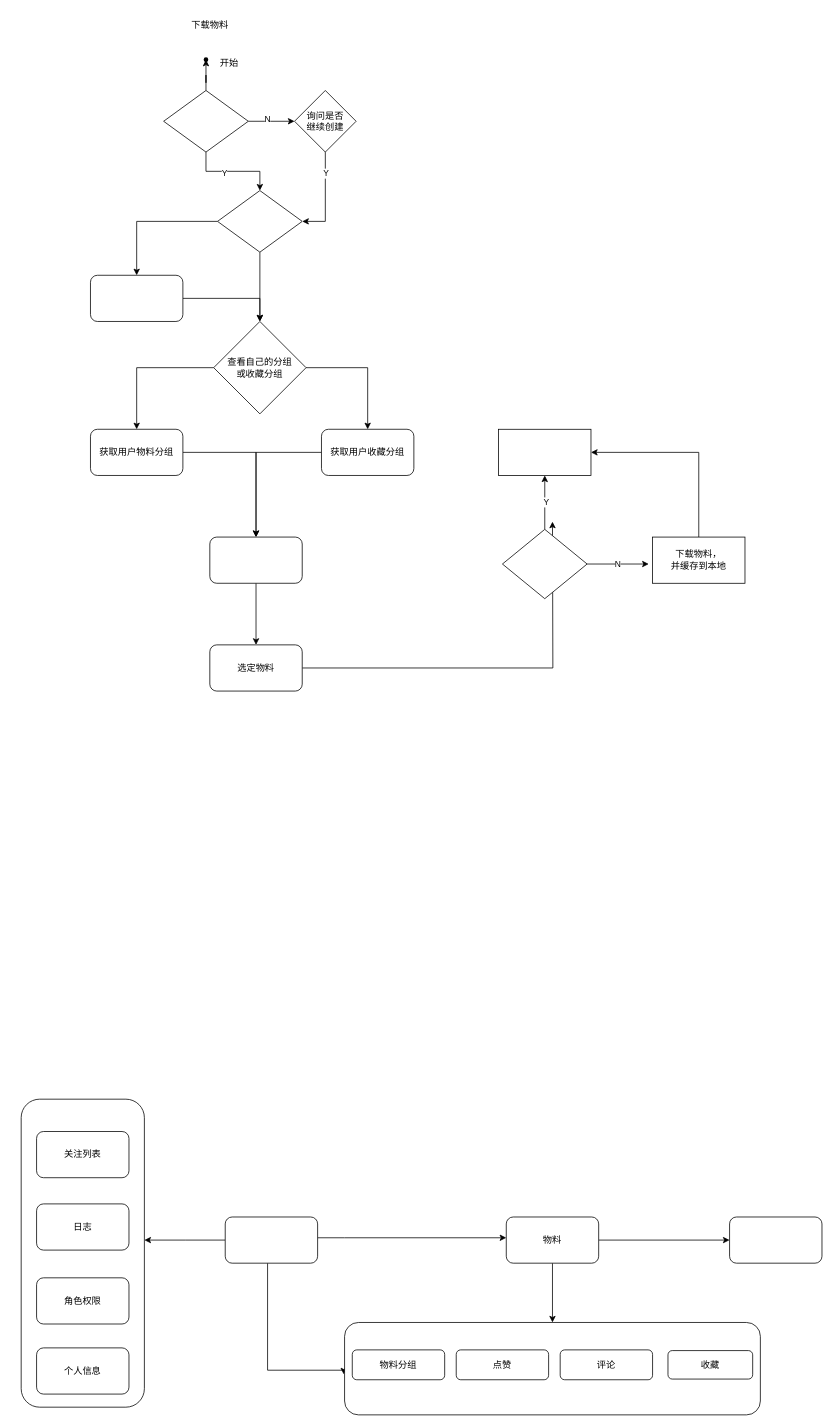
Image size: 835x1428. Some labels were removed from this diagram. The centre of each missing label's shape, as x and y in pixels:
将本地缓存复制一份，移动到当前文件夹: (544,452)
当前目录 是否为空: (205,121)
是否为 强制更新: (259,221)
查看本地 是否有缓存: (544,564)
标签: (775,1239)
清空当前目录: (136,298)
用户: (271,1239)
获取分组下的物料列表: (255,559)
